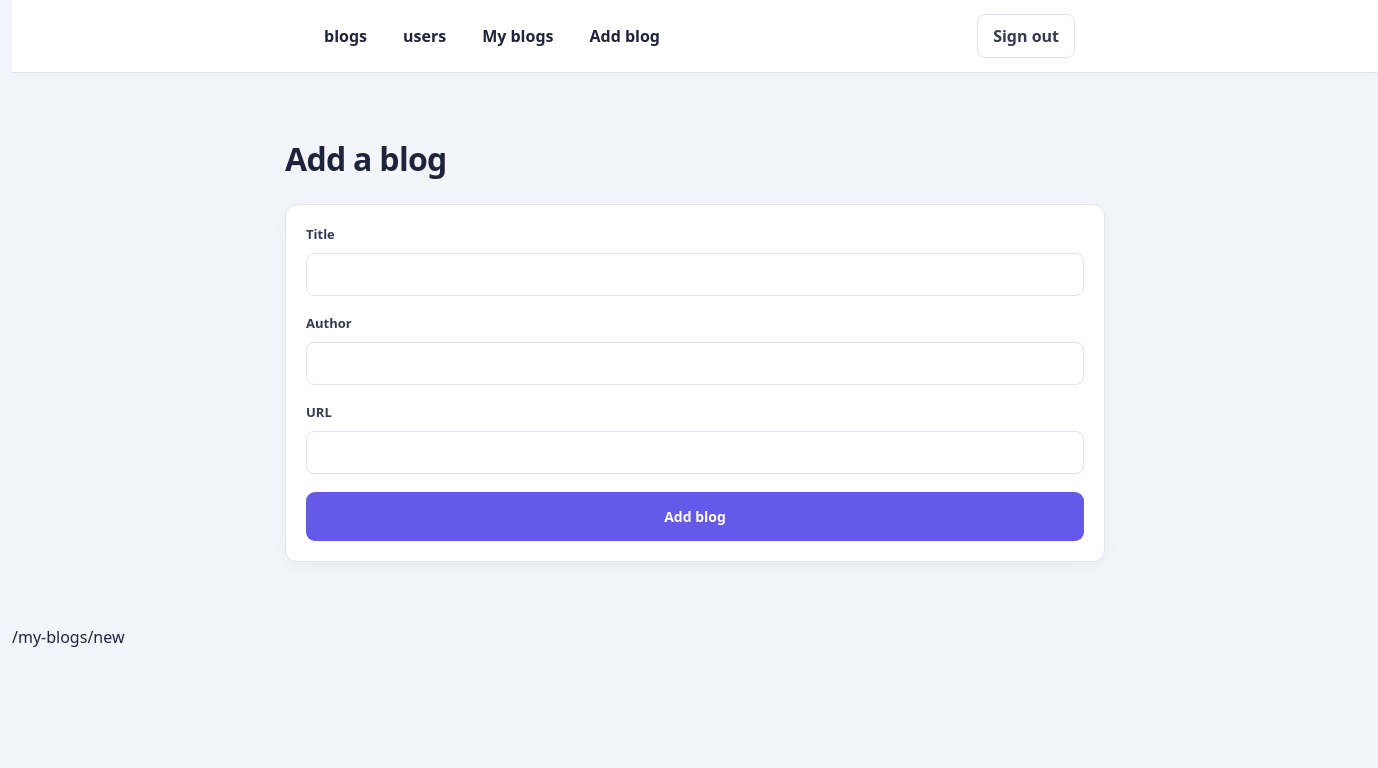
Test: App routes and navigation › creates a blog and redirects to all blogs
Type "New blog" into the field labelled "Title" at (695, 274), box [306,253,1084,296]
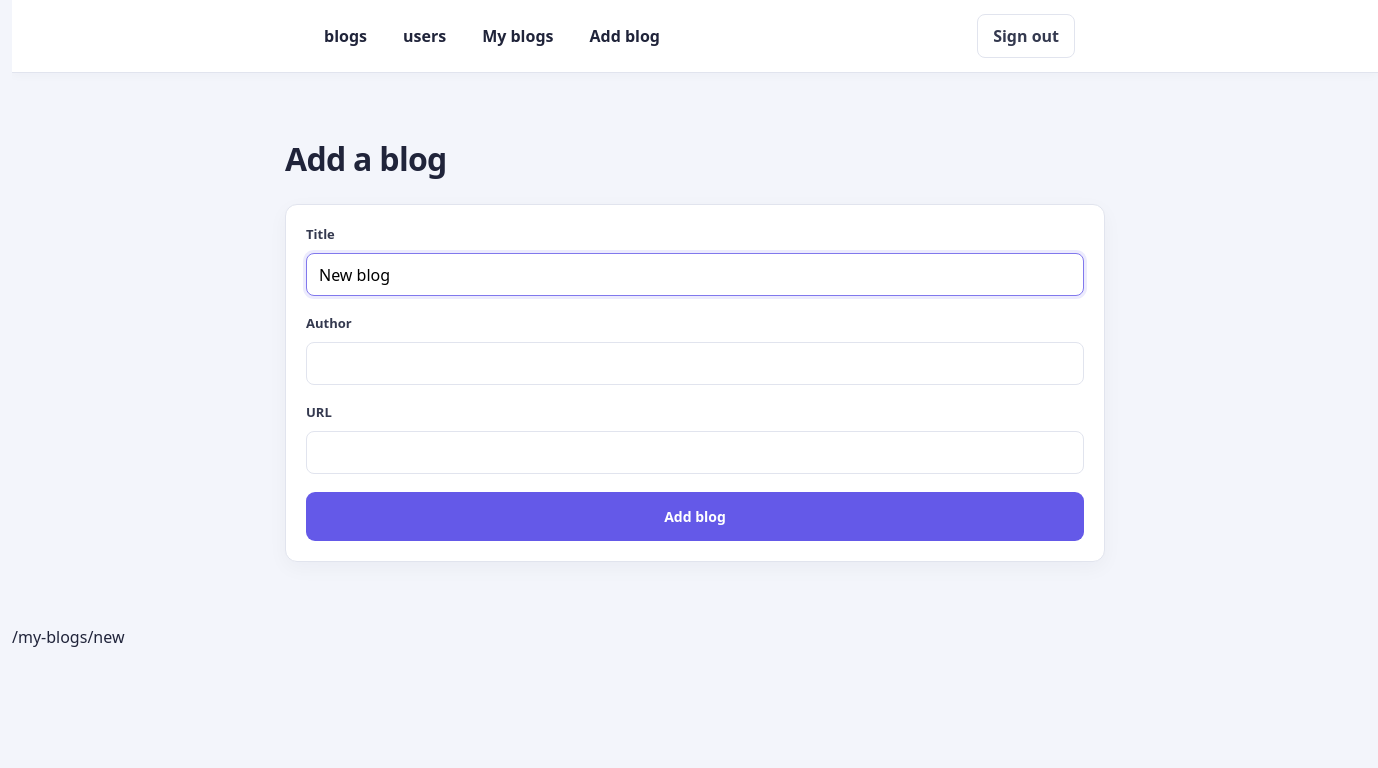
Type "Test Author" into the field labelled "Author" at (695, 364), box [306,342,1084,385]
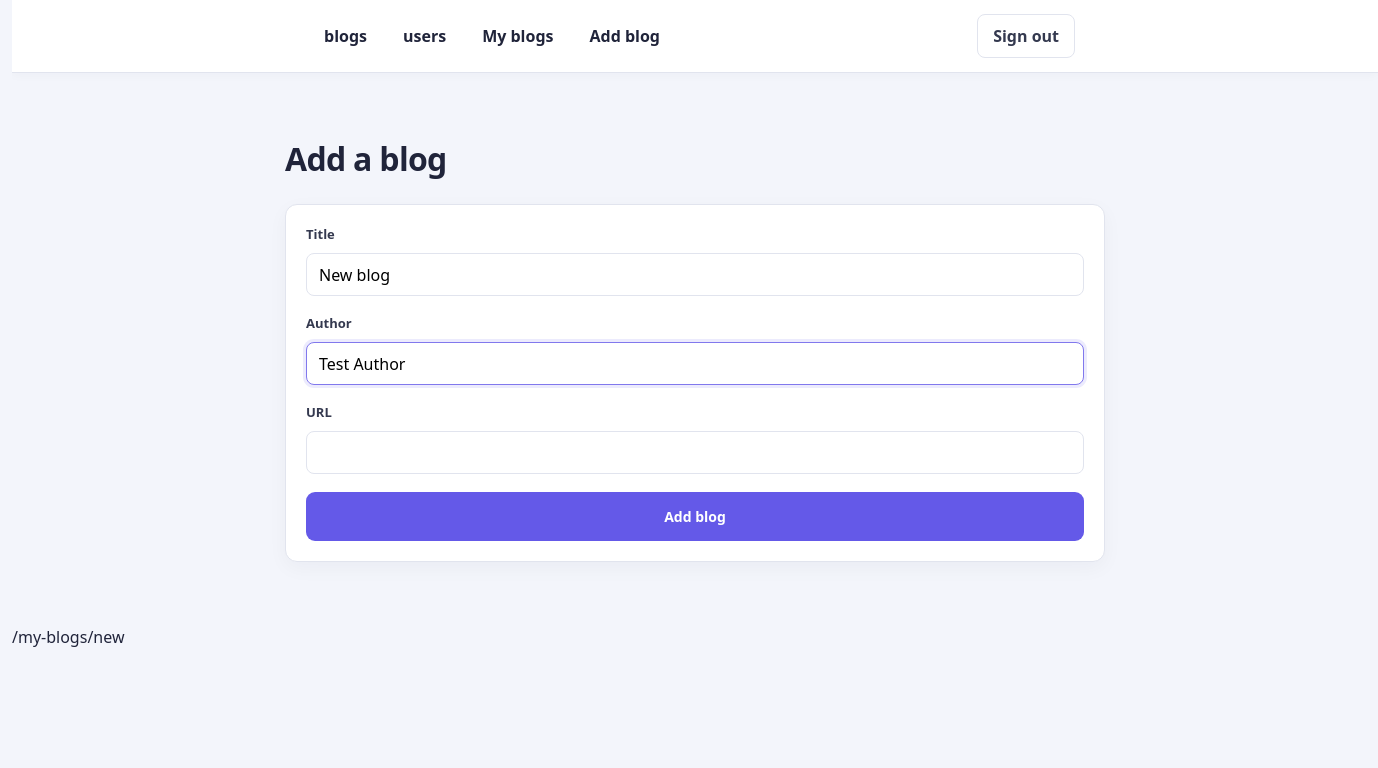
Type "https://example.com/new-blog" into the field labelled "URL" at (695, 452), box [306,431,1084,474]
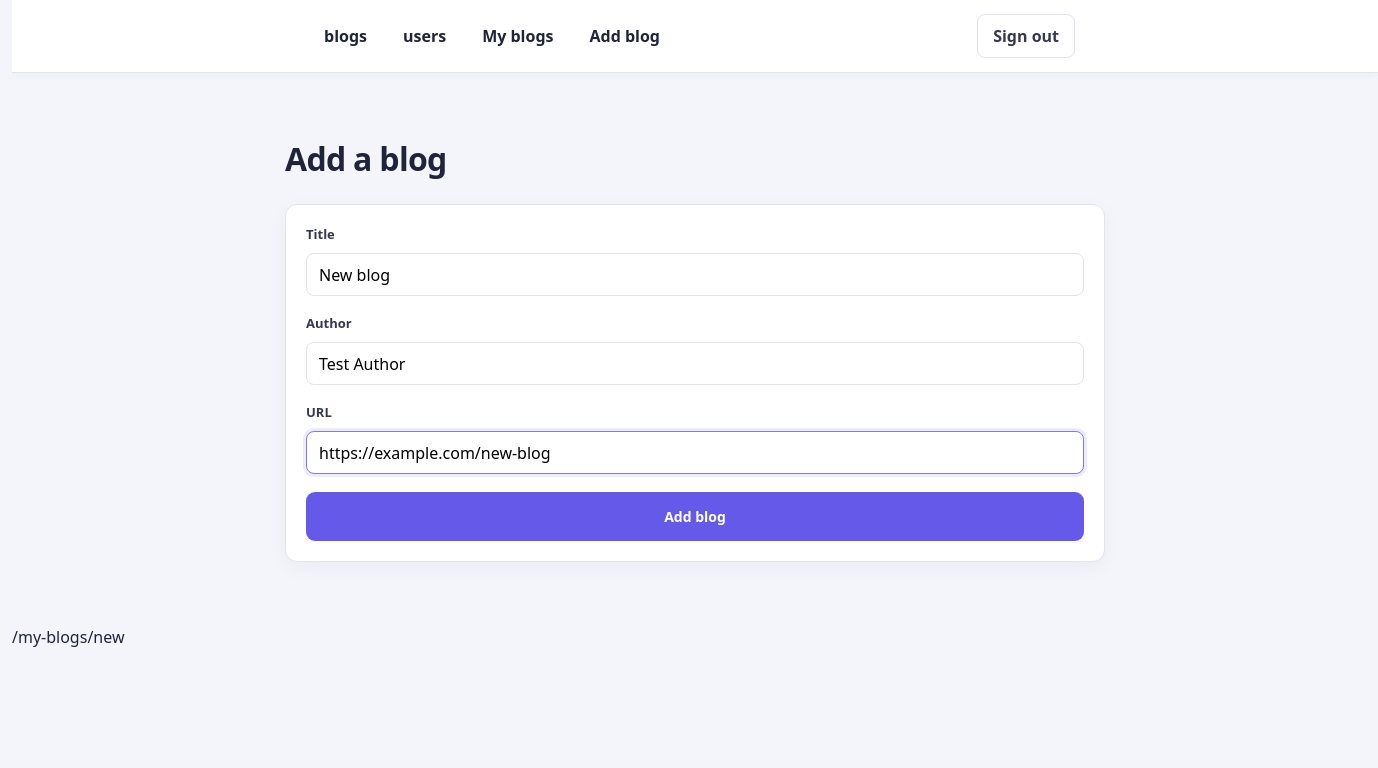
Click the button "Add blog" at (695, 516), box [306,492,1084,541]
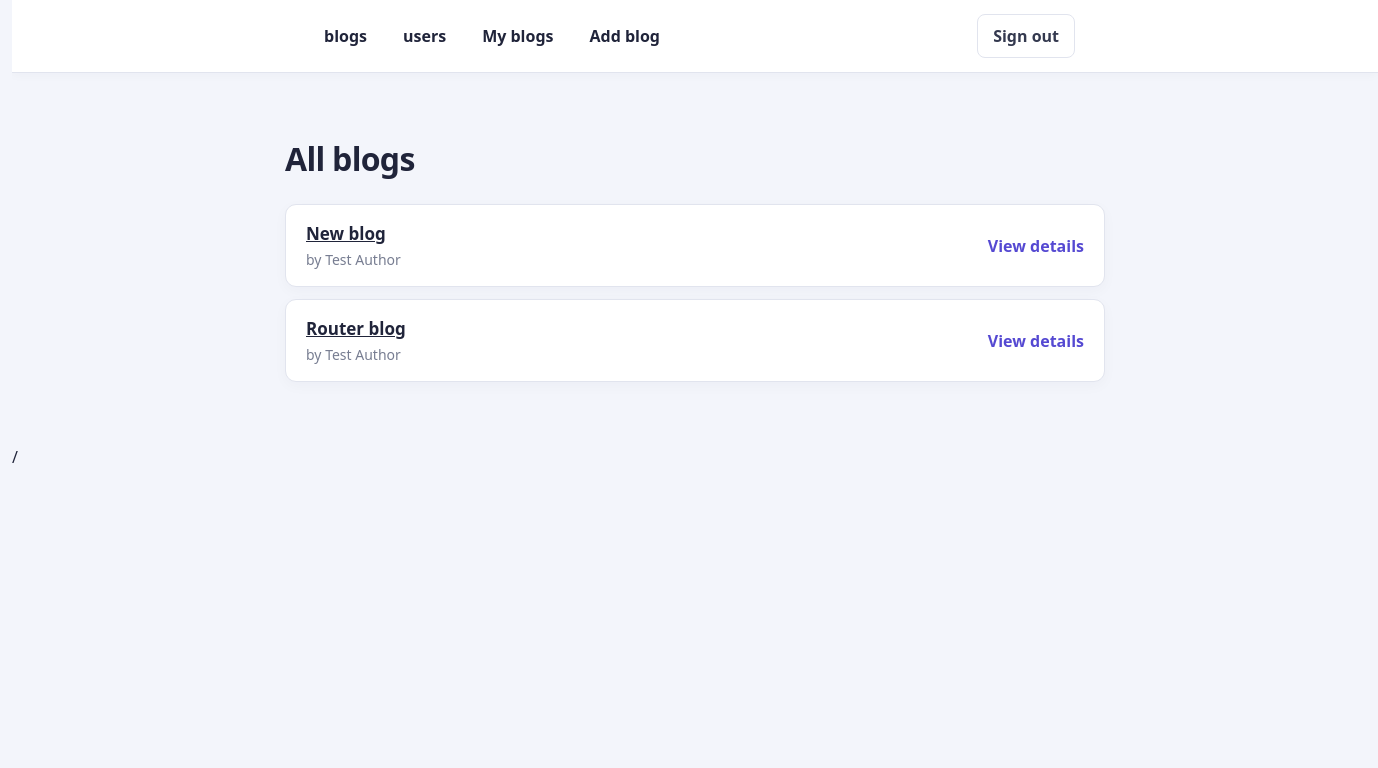
expect the heading "All blogs" is shown: met, box [285,137,415,180]
expect the text named "Current path" reads "/": met, box [12,446,18,468]
expect the number of links "View details" is 2: met, box [988,234,1084,256]; [988,330,1084,352]
